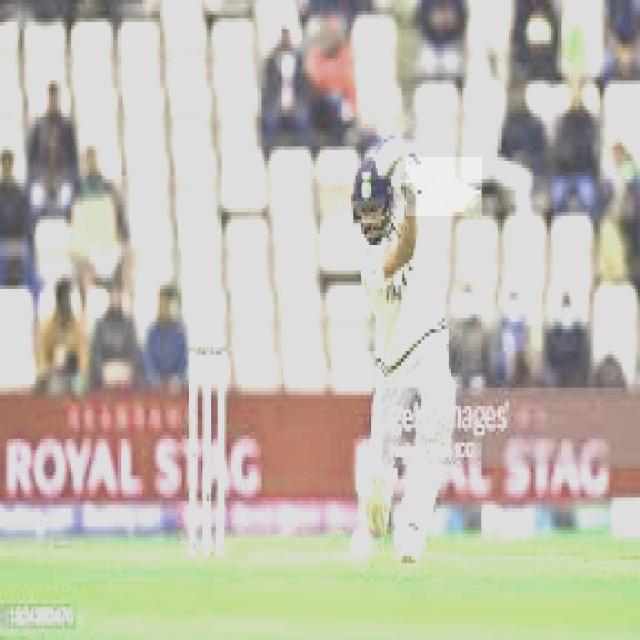bat: (406, 159, 483, 214)
toe: (465, 193, 483, 212)
